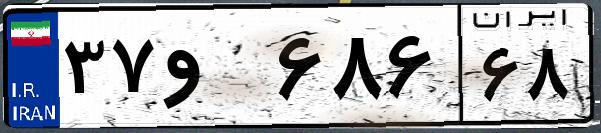3: (57, 26, 110, 100)
6: (270, 28, 330, 110), (385, 28, 445, 110), (475, 38, 525, 113)
7: (110, 28, 158, 98)
8: (330, 28, 385, 110), (525, 38, 570, 115)
و: (158, 20, 270, 120)
